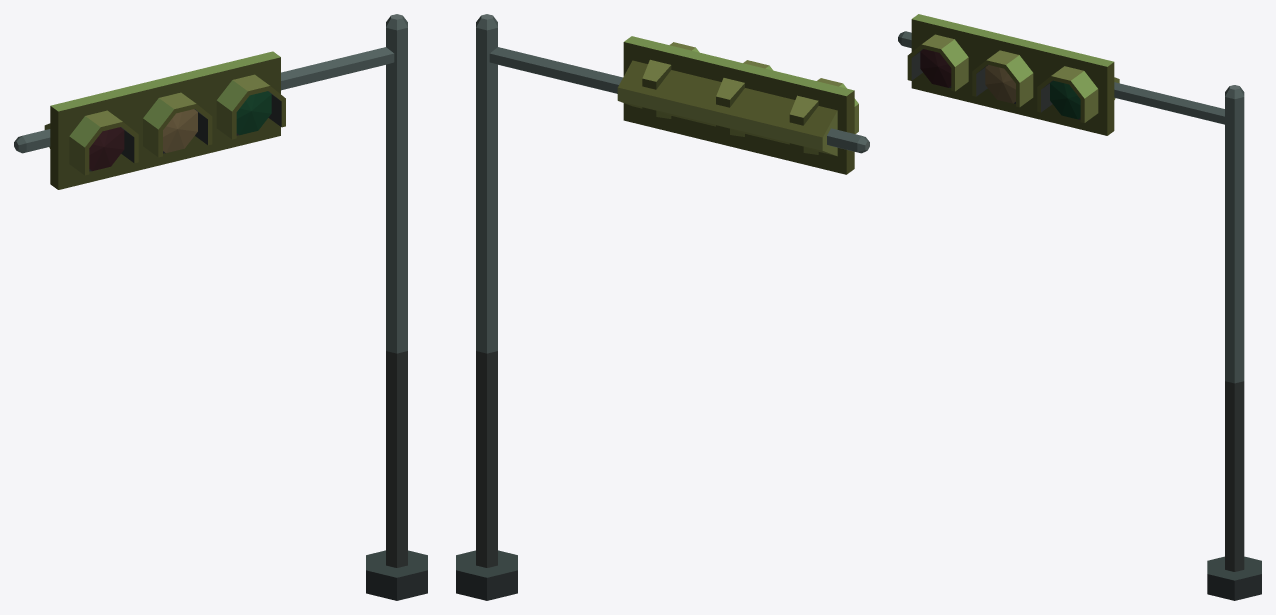
The model's file is TB_CITY_Prop_TrafficLight_VSet_Green.FBX.
3 renders of one model, left to right at view 1: azimuth 30°, elevation 25°; view 2: azimuth 150°, elevation 25°; view 3: azimuth 330°, elevation 25°, orthographic. The views are drawn at different scales.
Visible parts, largest first — view 1: TB_CITY_Prop_TrafficLight_VSet_Green; view 2: TB_CITY_Prop_TrafficLight_VSet_Green; view 3: TB_CITY_Prop_TrafficLight_VSet_Green.
Boxes of the visible parts, <box> form: TB_CITY_Prop_TrafficLight_VSet_Green: <box>14,14,427,600</box>; TB_CITY_Prop_TrafficLight_VSet_Green: <box>456,14,869,600</box>; TB_CITY_Prop_TrafficLight_VSet_Green: <box>898,14,1261,600</box>.
Bounding box in the file's own units: 5.62 × 7.45 × 1.07.
